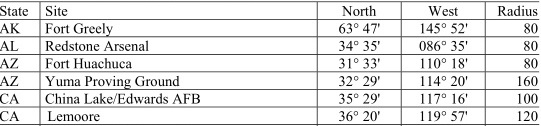column: (45, 1, 201, 126), (419, 1, 468, 126), (337, 2, 381, 126), (498, 1, 540, 126), (1, 1, 30, 126)
row: (1, 20, 541, 34), (1, 92, 541, 106), (1, 110, 541, 123), (1, 4, 541, 16), (1, 40, 541, 52), (1, 57, 541, 69), (1, 75, 541, 87)
